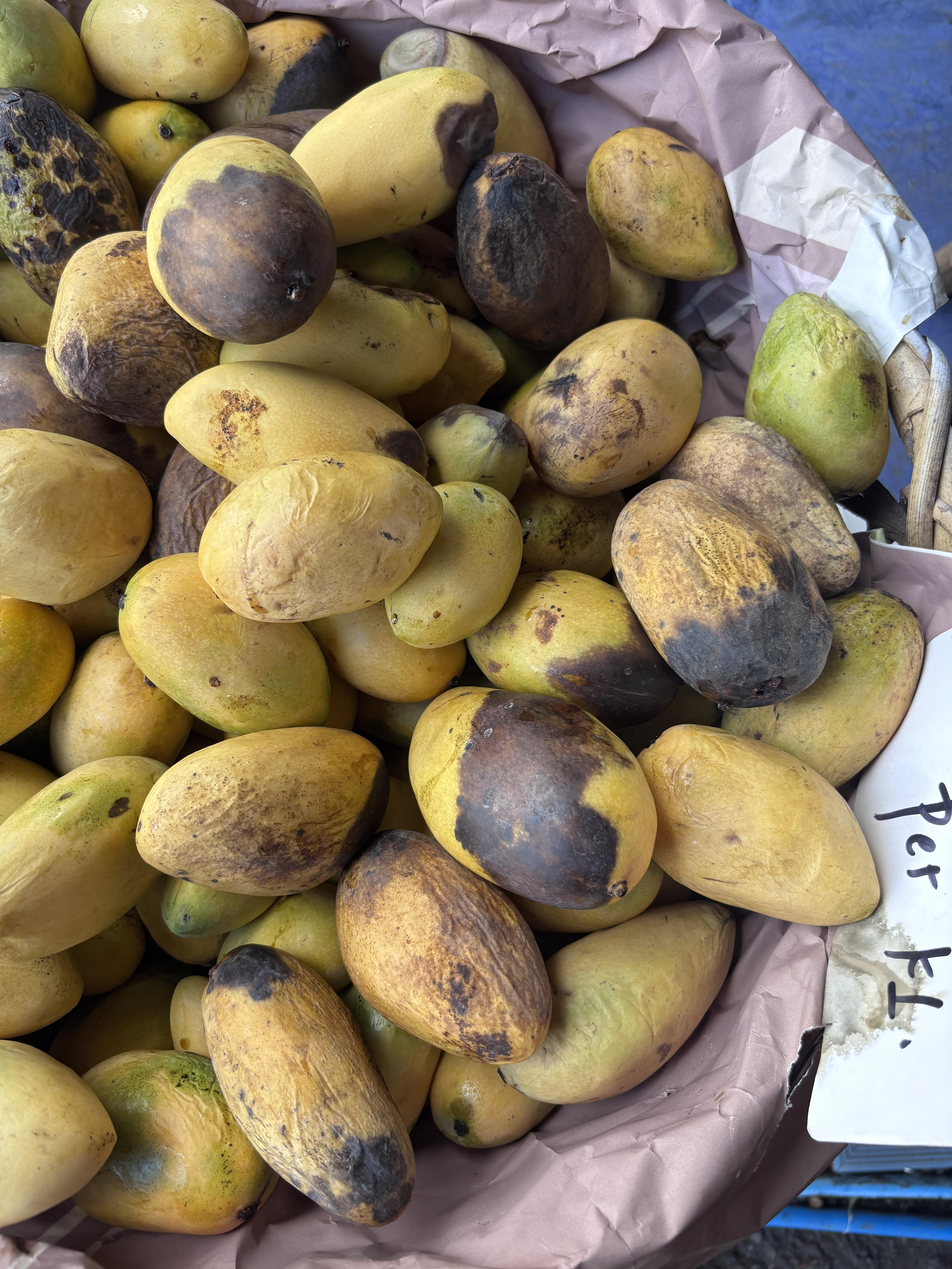mango: (202, 944, 416, 1226), (409, 686, 657, 910), (336, 829, 552, 1065), (612, 479, 832, 709), (136, 726, 389, 896), (199, 450, 442, 623), (147, 135, 336, 344), (521, 319, 702, 497), (456, 152, 610, 353), (586, 128, 737, 281), (81, 0, 248, 108)
occluded: (638, 724, 880, 925), (498, 901, 735, 1104), (722, 589, 924, 787), (119, 553, 329, 734), (74, 1051, 276, 1234), (292, 67, 497, 247), (661, 417, 860, 598), (467, 569, 680, 730), (46, 231, 220, 427), (0, 756, 166, 960), (165, 361, 426, 484), (220, 269, 451, 400), (0, 89, 138, 303), (745, 293, 889, 496), (0, 428, 152, 604), (0, 343, 176, 493), (380, 27, 555, 170), (384, 481, 522, 647), (0, 1040, 116, 1225), (50, 633, 193, 775), (199, 16, 352, 131), (306, 600, 466, 702), (48, 965, 190, 1076), (342, 985, 441, 1131), (217, 883, 350, 991), (92, 100, 210, 210), (511, 464, 624, 578), (430, 1053, 554, 1148), (400, 315, 506, 424), (0, 0, 96, 119), (510, 860, 663, 933), (0, 597, 74, 744), (419, 405, 527, 499), (148, 445, 235, 560), (389, 223, 476, 320), (136, 875, 225, 966), (53, 563, 139, 649), (0, 952, 83, 1038), (162, 878, 273, 937), (70, 910, 145, 996), (213, 109, 331, 153), (0, 248, 52, 346), (603, 248, 665, 321), (337, 237, 420, 290), (0, 751, 56, 824), (356, 693, 430, 748), (169, 976, 209, 1057), (379, 776, 429, 834), (501, 370, 543, 427), (325, 666, 358, 730)
